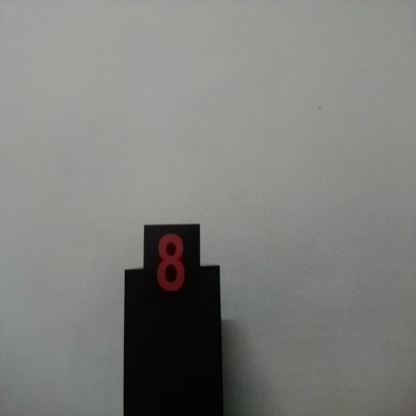id_8: (144, 225, 200, 319)
